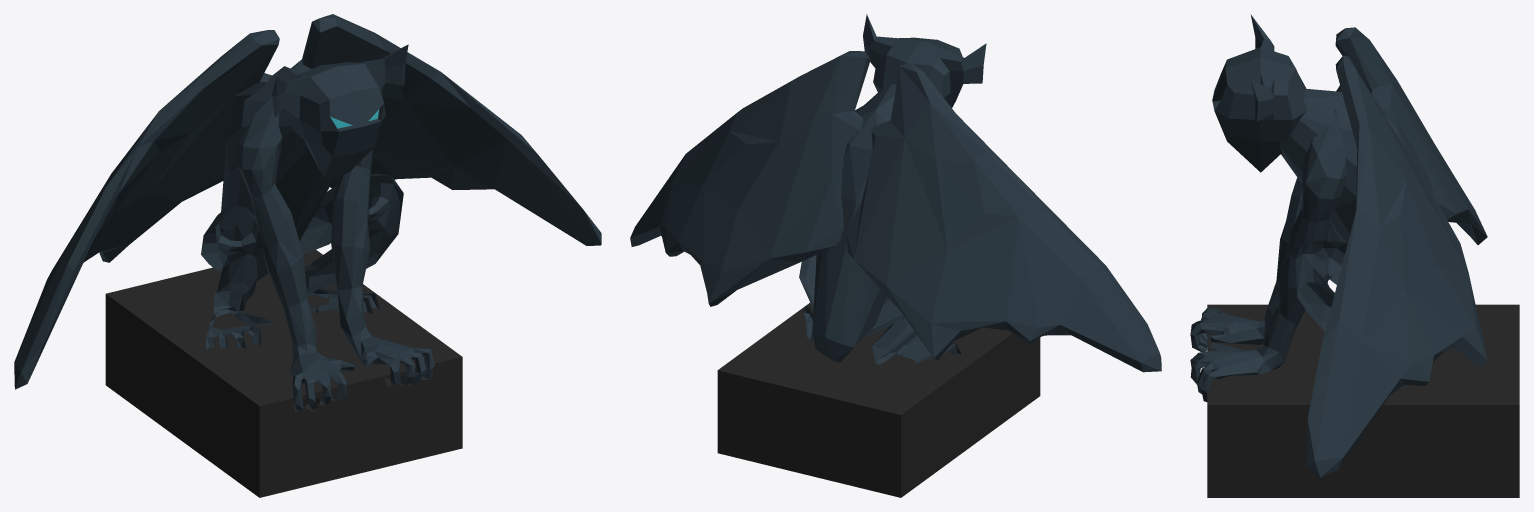
The model's file is Gorgul.fbx.
The picture shows the model from 3 angles, left to right: view 1: azimuth 30°, elevation 25°; view 2: azimuth 150°, elevation 25°; view 3: azimuth 270°, elevation 25°; orthographic projection. The views are drawn at different scales.
Visible parts, largest first — view 1: Circle; view 2: Circle; view 3: Circle.
Boxes of the visible parts, bbox=[...] form: Circle: bbox=[14, 14, 601, 497]; Circle: bbox=[630, 14, 1161, 497]; Circle: bbox=[1190, 14, 1519, 497].
Size of the model in its own units: 298 by 194 by 143.
